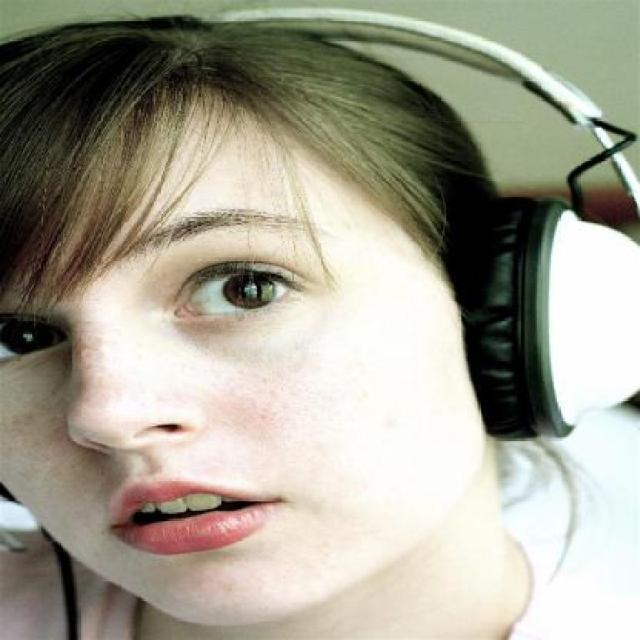earphone: (356, 0, 639, 476)
